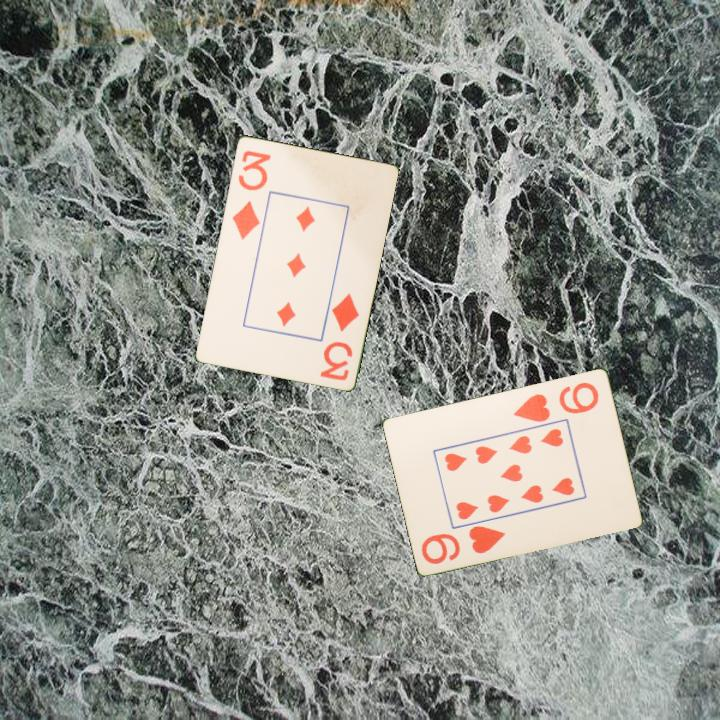3d: (316, 289, 362, 383), (228, 146, 273, 242)
9h: (510, 378, 602, 425), (418, 522, 508, 567)
